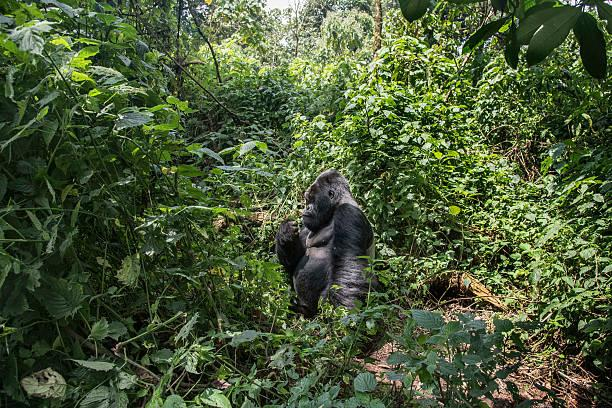goriile_montagne: (267, 170, 383, 313)
